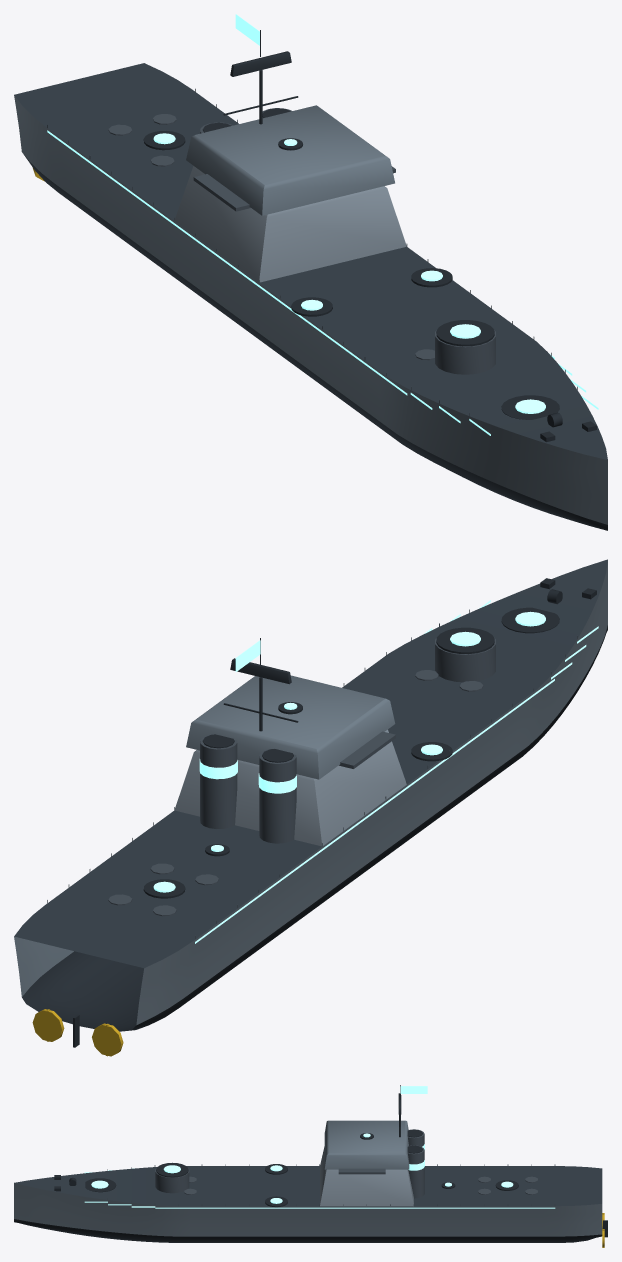
Rendered from arena_hull_large.glb.
The picture shows the model from 3 angles, top to bottom: view 1: azimuth 30°, elevation 25°; view 2: azimuth 150°, elevation 25°; view 3: azimuth 270°, elevation 25°; orthographic projection. The views are drawn at different scales.
Visible parts, largest first — view 1: deck, hull, bridge_top, bridge, hull_under, barbette_1, team_stripe, slot_ring_1, hatches, bridge_wing, slot_ring_0, radar_plate; view 2: deck, hull, bridge_top, hull_under, bridge, funnel_1, funnel_2, barbette_1, hatches, team_stripe, slot_ring_1, slot_ring_0 (+4 smaller); view 3: hull, deck, bridge_top, hull_under, bridge, team_stripe, funnel_2, barbette_1, hatches, bridge_wing, slot_ring_1, slot_ring_0.
Boxes of the visible parts, left/top/right/bottom form: deck: left=14, top=63, right=607, bottom=459; hull: left=14, top=95, right=607, bottom=524; bridge_top: left=186, top=105, right=394, bottom=215; bridge: left=175, top=166, right=406, bottom=282; hull_under: left=23, top=154, right=607, bottom=530; barbette_1: left=435, top=330, right=495, bottom=374; team_stripe: left=47, top=130, right=598, bottom=435; slot_ring_1: left=436, top=320, right=494, bottom=346; hatches: left=108, top=114, right=434, bottom=360; bridge_wing: left=193, top=166, right=395, bottom=211; slot_ring_0: left=501, top=395, right=559, bottom=419; radar_plate: left=230, top=51, right=291, bottom=76; deck: left=14, top=559, right=607, bottom=967; hull: left=14, top=561, right=607, bottom=1025; bridge_top: left=186, top=675, right=395, bottom=779; hull_under: left=22, top=625, right=607, bottom=1031; bridge: left=174, top=729, right=406, bottom=846; funnel_1: left=259, top=749, right=296, bottom=843; funnel_2: left=200, top=734, right=237, bottom=828; barbette_1: left=435, top=637, right=495, bottom=682; hatches: left=108, top=670, right=483, bottom=916; team_stripe: left=195, top=600, right=598, bottom=943; slot_ring_1: left=436, top=627, right=494, bottom=654; slot_ring_0: left=501, top=607, right=559, bottom=633; hull: left=14, top=1183, right=602, bottom=1236; deck: left=14, top=1166, right=602, bottom=1206; bridge_top: left=324, top=1120, right=409, bottom=1169; hull_under: left=14, top=1219, right=602, bottom=1242; bridge: left=320, top=1146, right=413, bottom=1206; team_stripe: left=84, top=1168, right=555, bottom=1208; funnel_2: left=407, top=1145, right=424, bottom=1198; barbette_1: left=155, top=1168, right=189, bottom=1193; hatches: left=184, top=1176, right=537, bottom=1194; bridge_wing: left=338, top=1168, right=385, bottom=1174; slot_ring_1: left=156, top=1162, right=188, bottom=1177; slot_ring_0: left=85, top=1178, right=116, bottom=1192.
Size of the model in its own units: 45.36 by 75 by 262.
